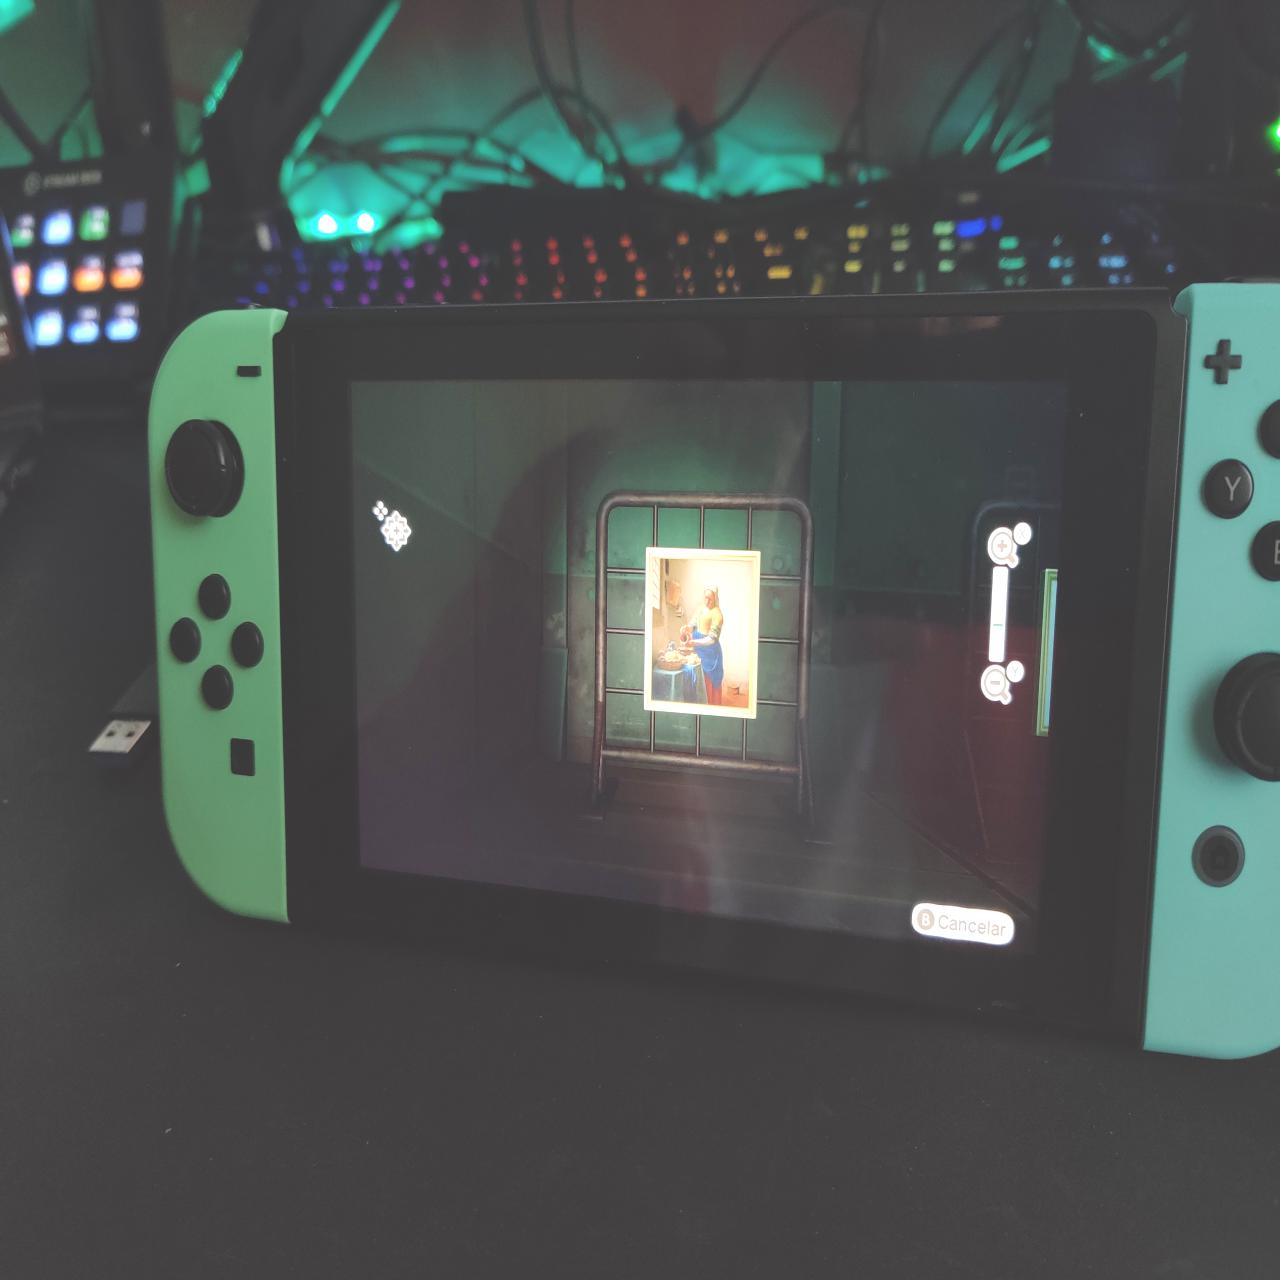Milkmaid: (652, 557, 753, 709)
